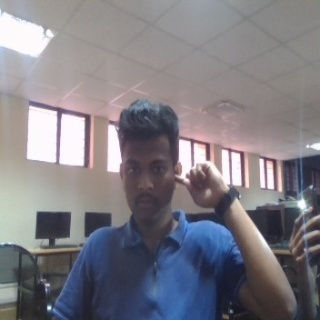Deaf: (174, 160, 229, 210)
Face: (112, 97, 183, 228)
